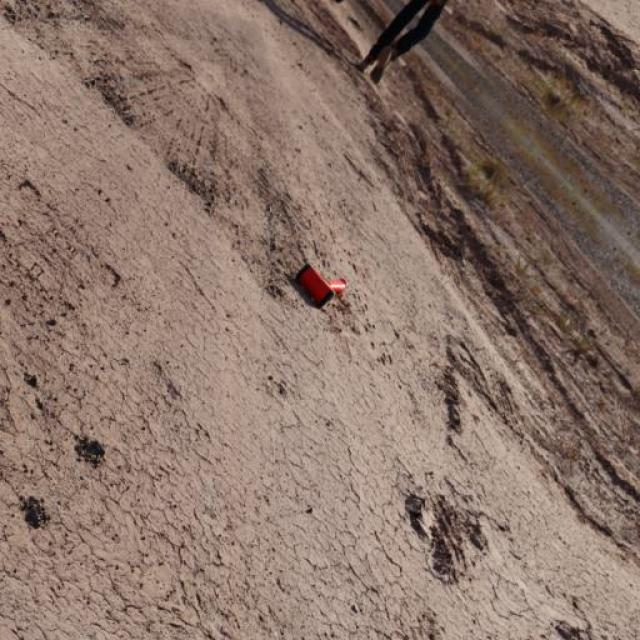mallet: (294, 262, 346, 308)
